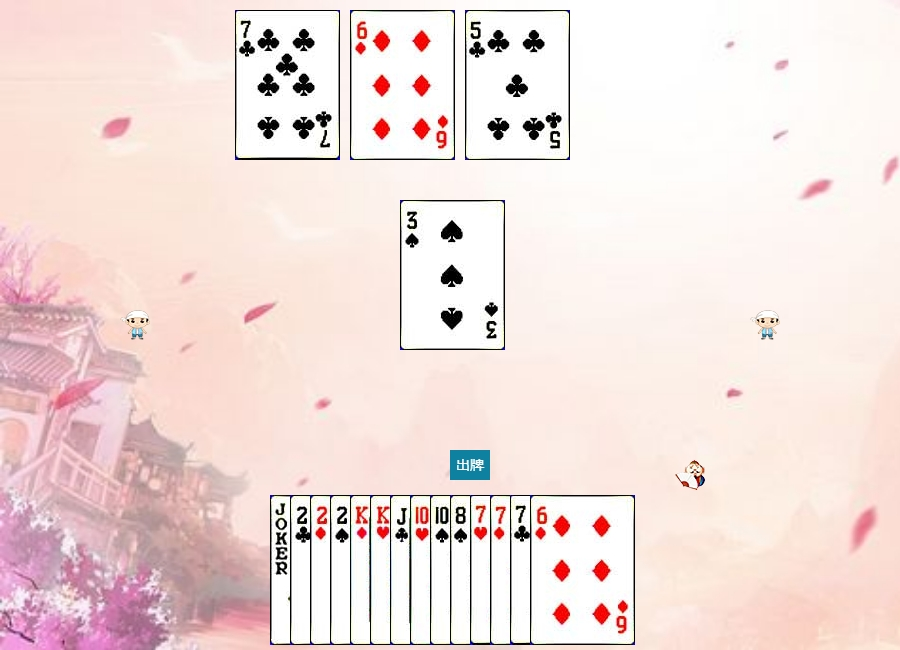10~3: (410, 495, 515, 645)
10~4: (430, 495, 535, 645)
11~2: (390, 495, 495, 645)
13~1: (350, 495, 455, 645)
13~3: (370, 495, 475, 645)
15~1: (310, 495, 415, 645)
15~2: (290, 495, 395, 645)
15~4: (330, 495, 435, 645)
17~3: (270, 495, 375, 645)
3~4: (400, 200, 505, 350)
5~2: (465, 10, 570, 160)
6~1: (350, 10, 455, 160), (530, 495, 635, 645)
7~1: (490, 495, 595, 645)
7~2: (235, 10, 340, 160), (510, 495, 615, 645)
7~3: (470, 495, 575, 645)
8~4: (450, 495, 555, 645)
